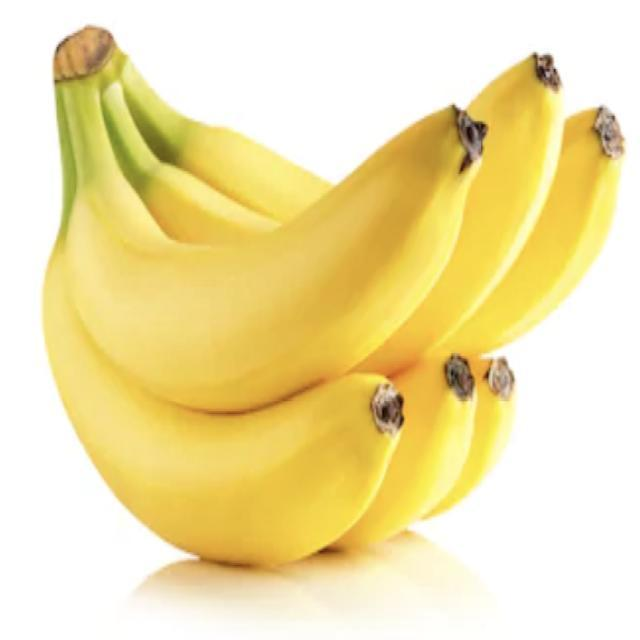Banana: (40, 24, 625, 568)
